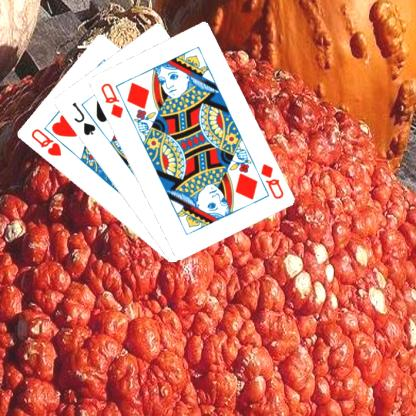JS: (69, 99, 97, 137)
QD: (257, 160, 285, 200), (98, 80, 124, 120)
QH: (28, 126, 62, 157)
